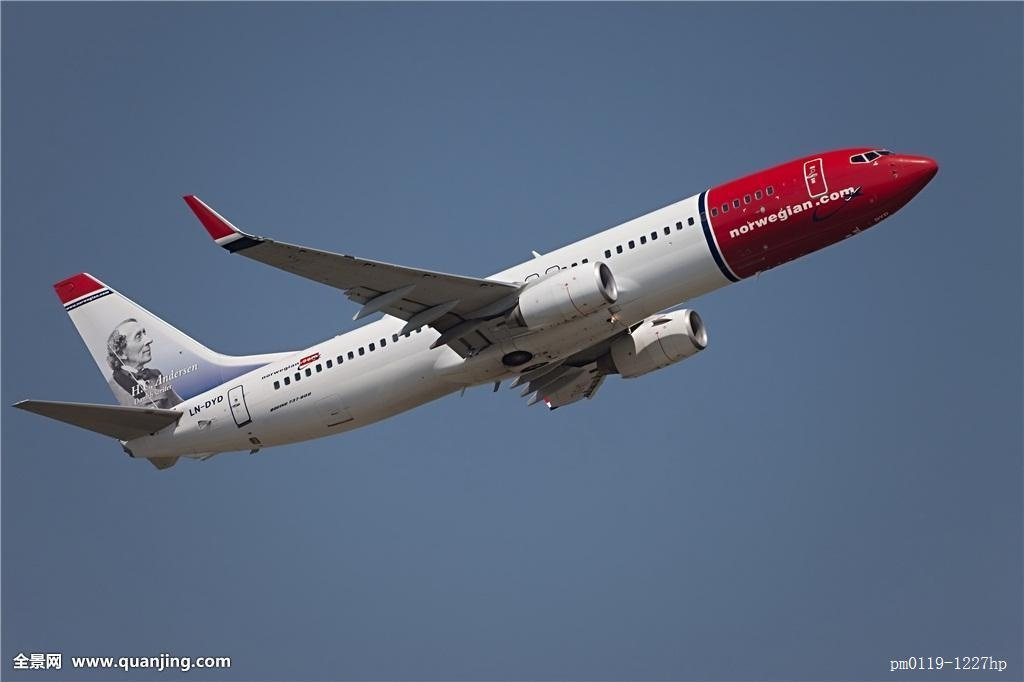airplane: (7, 146, 941, 475)
